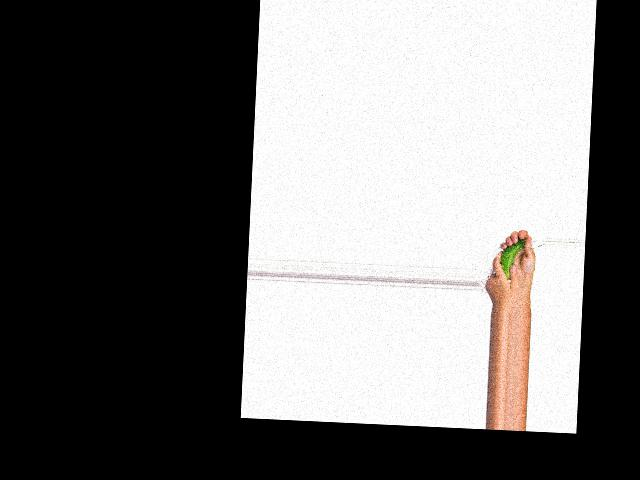cucumber: (498, 236, 525, 281)
